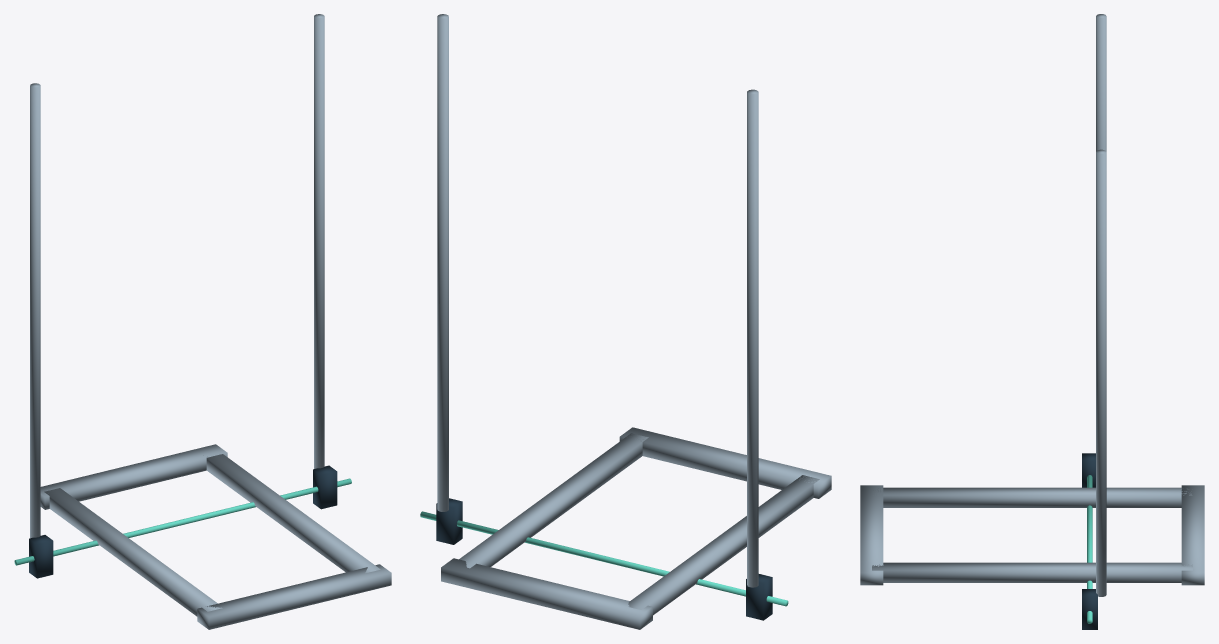
File: machine_b_smith_squat.glb
3 renders of one model, left to right at view 1: azimuth 30°, elevation 25°; view 2: azimuth 150°, elevation 25°; view 3: azimuth 270°, elevation 25°, orthographic. The views are drawn at different scales.
Parts seen in each view (by area): view 1: base, rail-1, rail1, bar, rail_slider-1, rail_slider1; view 2: base, rail-1, rail1, bar, rail_slider-1, rail_slider1; view 3: base, rail1, rail-1, rail_slider1, bar.
Part boxes in pixels (x1,y1,x2,y2): base: (40, 444, 391, 629); rail-1: (30, 83, 40, 538); rail1: (314, 14, 324, 468); bar: (14, 478, 351, 565); rail_slider-1: (29, 535, 53, 578); rail_slider1: (313, 465, 337, 509); base: (441, 427, 831, 629); rail-1: (747, 89, 758, 587); rail1: (437, 14, 448, 511); bar: (420, 511, 788, 606); rail_slider-1: (746, 574, 772, 620); rail_slider1: (436, 498, 462, 544); base: (860, 485, 1204, 585); rail1: (1096, 149, 1106, 596); rail-1: (1096, 14, 1106, 151); rail_slider1: (1082, 589, 1097, 629); bar: (1087, 475, 1092, 623).
Bounding box in the file's own units: 1.65 × 2.28 × 1.5.
